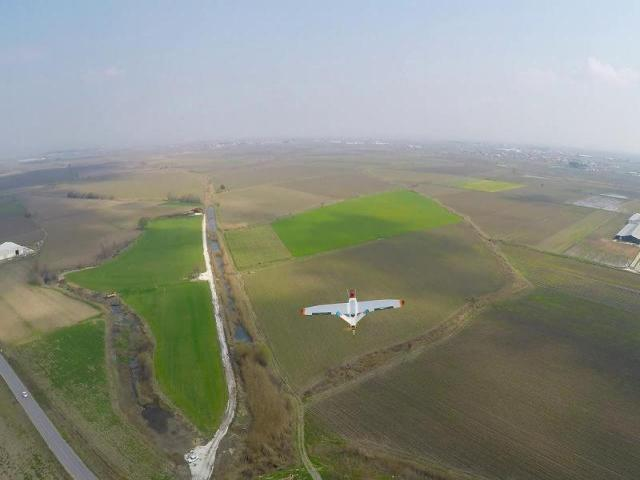hedef: (293, 267, 417, 350)
